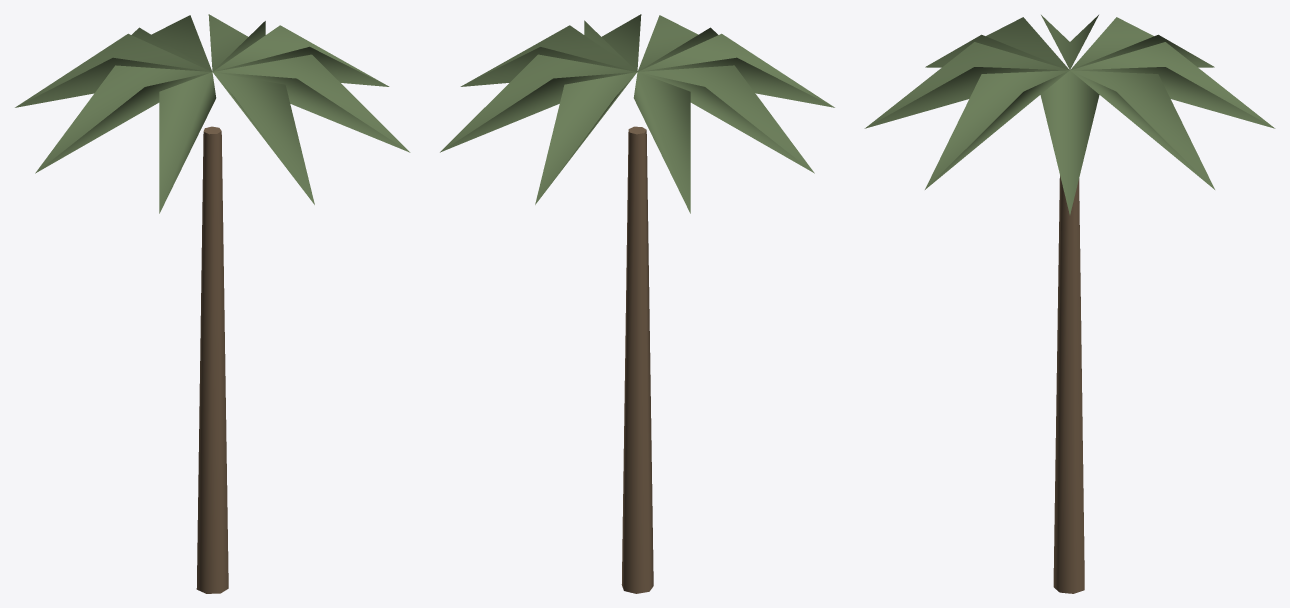
The picture shows the model from 3 angles, left to right: view 1: azimuth 30°, elevation 25°; view 2: azimuth 150°, elevation 25°; view 3: azimuth 270°, elevation 25°; orthographic projection.
Parts seen in each view (by area): view 1: Trunk / surface 1, Palm frond 5, Palm frond 2, Palm frond 3, Palm frond 4, Palm frond 6, Palm frond 1, Palm frond 7, Palm frond 8; view 2: Trunk / surface 1, Palm frond 5, Palm frond 8, Palm frond 7, Palm frond 6, Palm frond 4, Palm frond 1, Palm frond 3, Palm frond 2; view 3: Trunk / surface 1, Palm frond 2, Palm frond 8, Palm frond 3, Palm frond 7, Palm frond 1, Palm frond 4, Palm frond 6, Palm frond 5.
Part boxes in pixels (x1,y1,x2,y2): Trunk / surface 1: (196, 131, 228, 593); Palm frond 5: (35, 65, 211, 173); Palm frond 2: (213, 54, 410, 152); Palm frond 3: (213, 72, 314, 204); Palm frond 4: (159, 72, 216, 213); Palm frond 6: (15, 33, 211, 107); Palm frond 1: (213, 25, 389, 86); Palm frond 7: (131, 15, 212, 71); Palm frond 8: (208, 14, 265, 71); Trunk / surface 1: (621, 130, 653, 593); Palm frond 5: (638, 65, 814, 173); Palm frond 8: (440, 54, 636, 152); Palm frond 7: (535, 72, 636, 204); Palm frond 6: (633, 72, 690, 213); Palm frond 4: (638, 33, 834, 107); Palm frond 1: (460, 25, 636, 86); Palm frond 3: (637, 15, 717, 71); Palm frond 2: (584, 14, 641, 71); Trunk / surface 1: (1053, 176, 1084, 593); Palm frond 2: (925, 70, 1069, 189); Palm frond 8: (1070, 70, 1214, 189); Palm frond 3: (864, 42, 1068, 128); Palm frond 7: (1071, 42, 1275, 128); Palm frond 1: (1040, 70, 1099, 214); Palm frond 4: (925, 17, 1069, 70); Palm frond 6: (1070, 17, 1214, 70); Palm frond 5: (1041, 15, 1098, 69).
Size of the model in its own units: 7 by 10 by 7.
